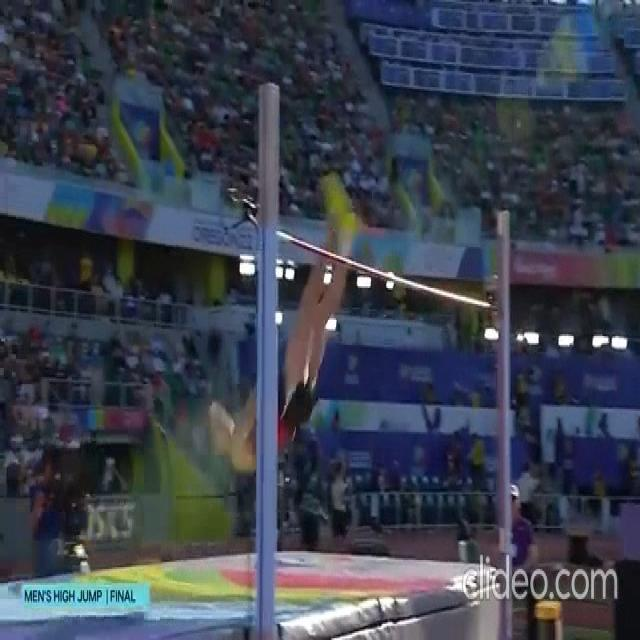land: (206, 181, 355, 471)
